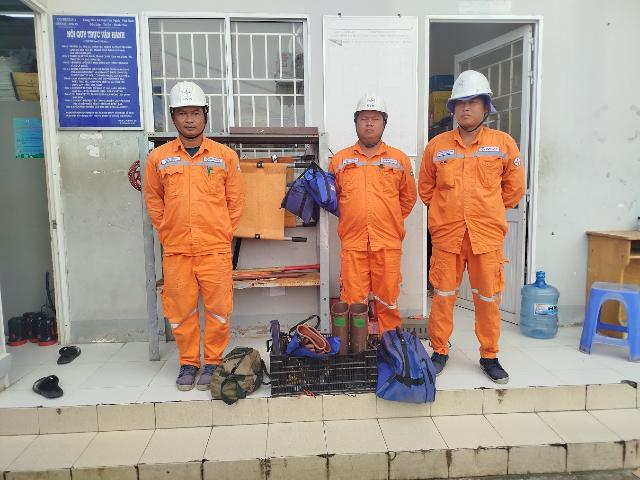helmet: (445, 62, 500, 108), (341, 86, 395, 120), (161, 78, 216, 110)
shoes: (470, 354, 519, 389), (196, 358, 218, 390), (429, 348, 451, 377), (174, 358, 192, 391)
